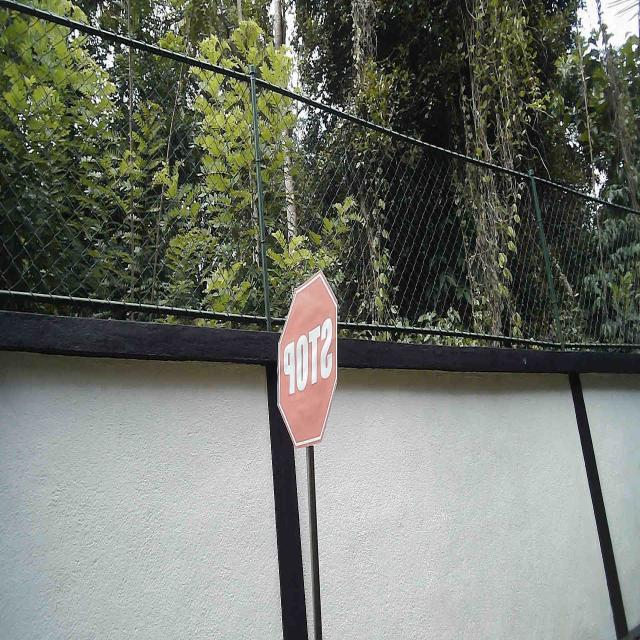stop: (275, 266, 339, 450)
